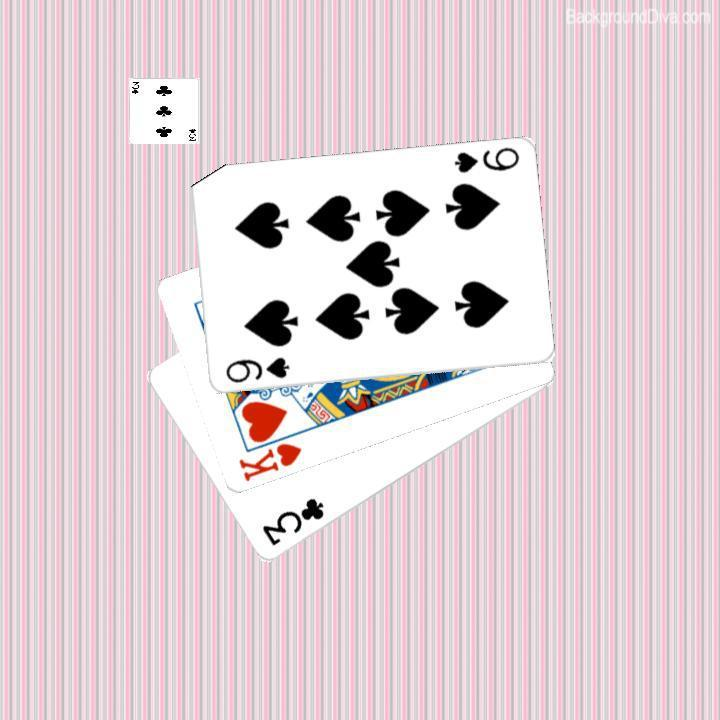3: (257, 494, 326, 549)
9: (220, 353, 291, 386), (450, 143, 521, 176)
K: (234, 439, 304, 484)
